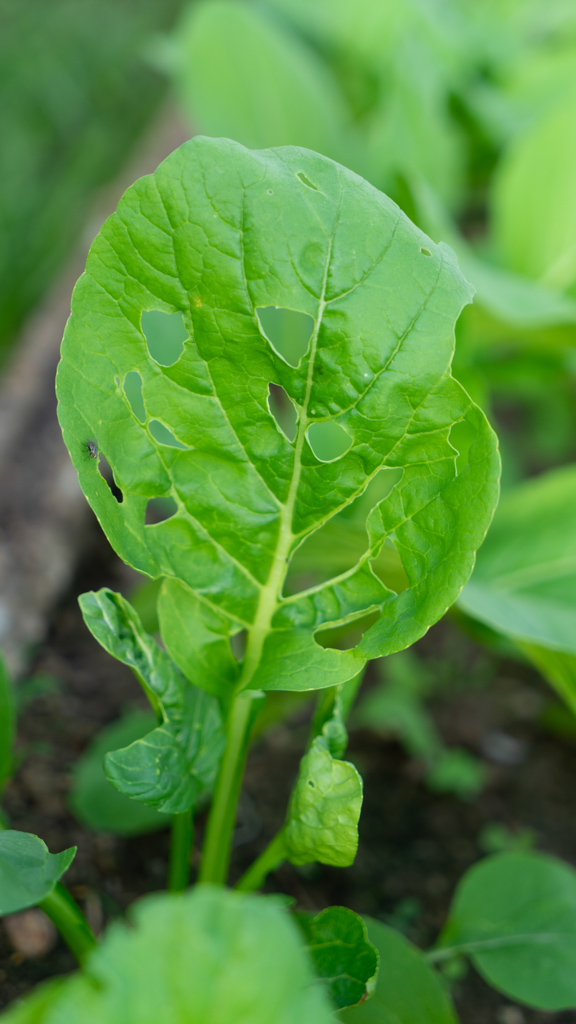Leaf Curl Disease: (64, 578, 236, 813)
Ragged Stunt Disease: (272, 690, 387, 872)
